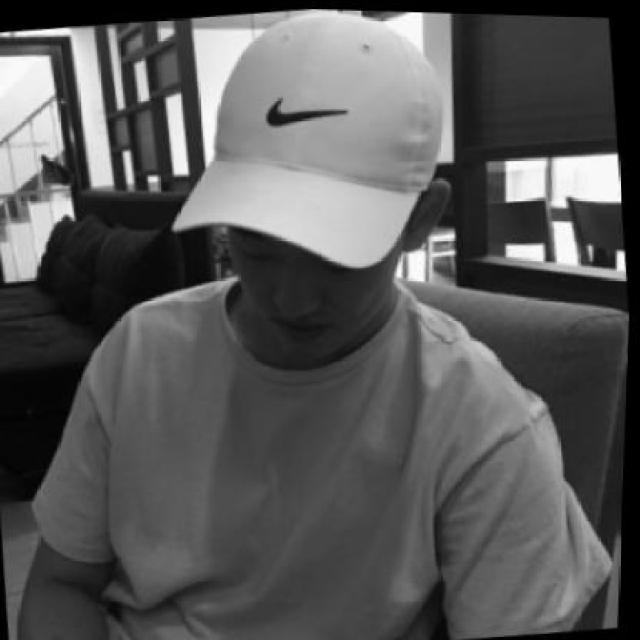hat: (155, 4, 468, 285)
